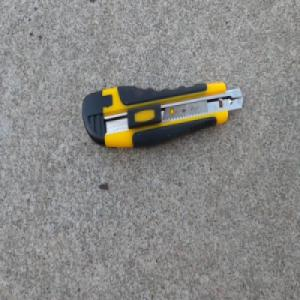Cutter: (81, 82, 242, 150)
